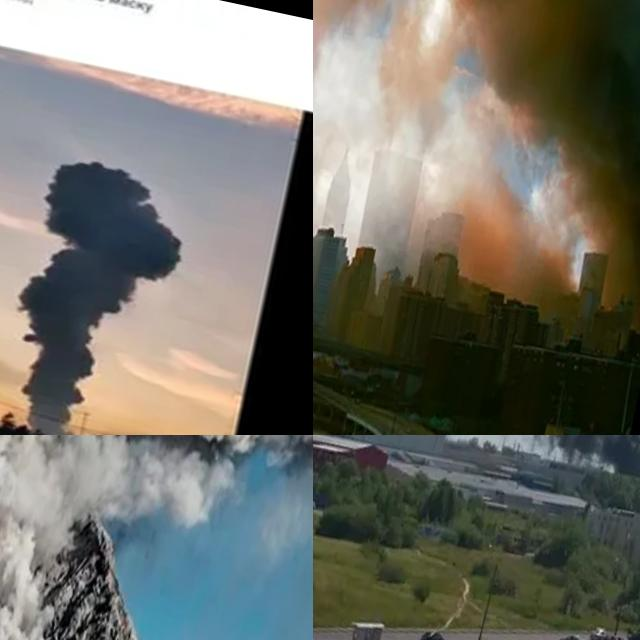smoke: (313, 0, 640, 321), (0, 149, 198, 435), (0, 435, 313, 571), (313, 435, 640, 482)
